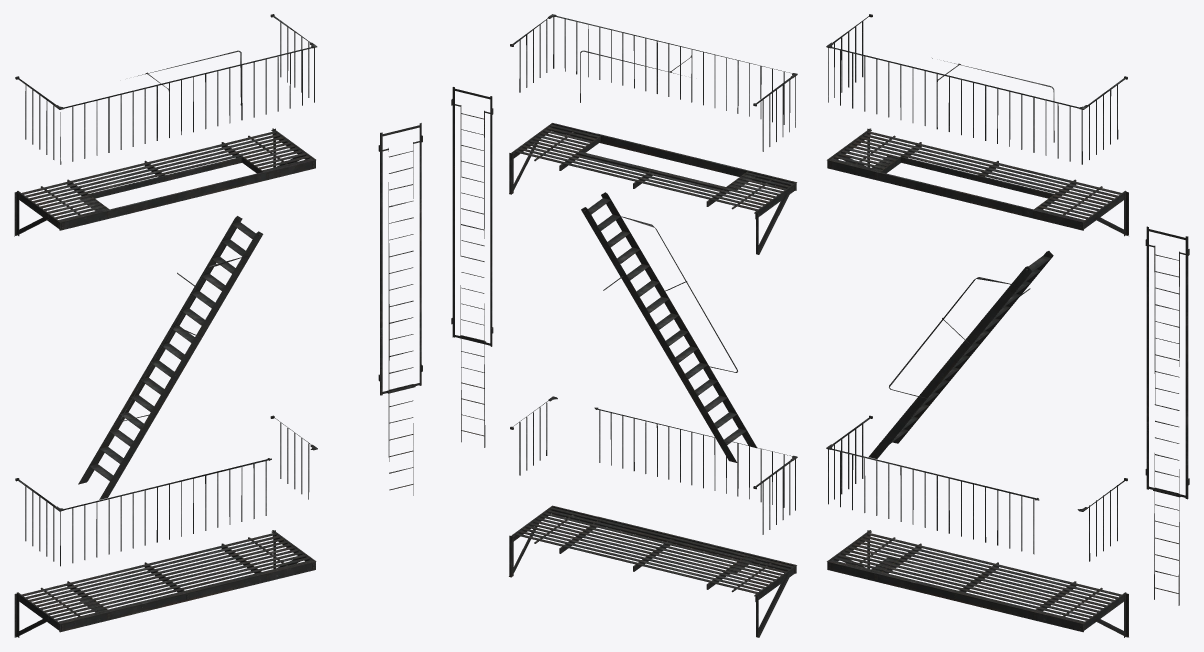
File: modular_fire_escape.glb
3 renders of one model, left to right at view 1: azimuth 30°, elevation 25°; view 2: azimuth 150°, elevation 25°; view 3: azimuth 330°, elevation 25°, orthographic. The views are drawn at different scales.
Parts seen in each view (by area): view 1: modular_fire_escape_platform_middle, modular_fire_escape_railing_middle; view 2: modular_fire_escape_platform_middle, modular_fire_escape_railing_middle; view 3: modular_fire_escape_platform_middle, modular_fire_escape_railing_middle.
Part boxes in pixels (x1,y1,x2,y2): modular_fire_escape_platform_middle: [14, 128, 316, 637]; modular_fire_escape_railing_middle: [15, 14, 422, 566]; modular_fire_escape_platform_middle: [509, 123, 796, 637]; modular_fire_escape_railing_middle: [451, 14, 797, 534]; modular_fire_escape_platform_middle: [827, 128, 1128, 637]; modular_fire_escape_railing_middle: [826, 14, 1189, 605].
Size of the model in its own units: 6.66 by 9.76 by 1.42.
Materials: 2 (2 with a texture image).
